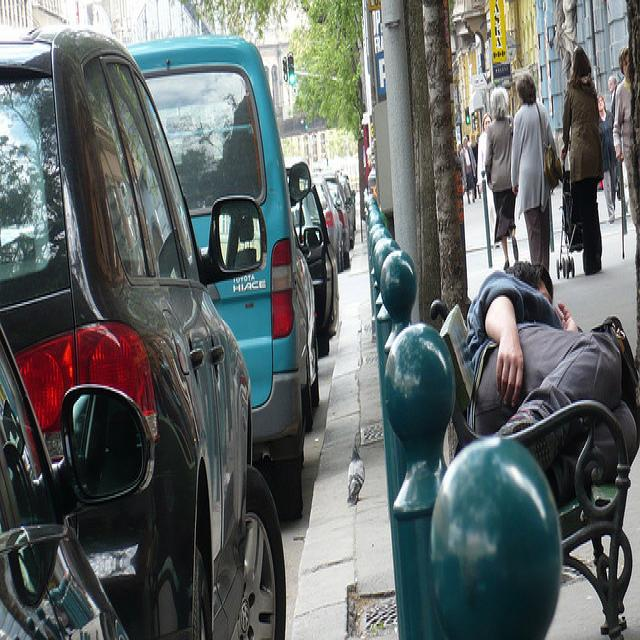Vehicle: (0, 24, 286, 633), (122, 32, 316, 526), (0, 317, 158, 638), (294, 198, 338, 350), (308, 262, 326, 433), (314, 175, 345, 274), (326, 181, 352, 269), (338, 177, 356, 248)
